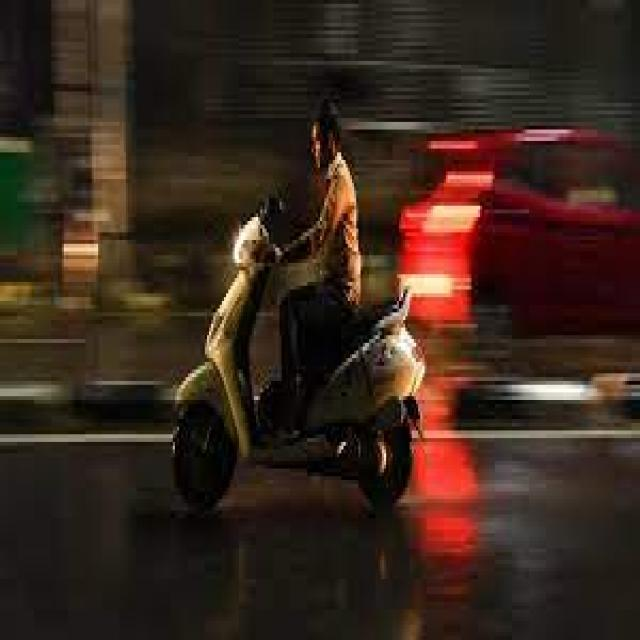Not Wearing Helmet: (246, 36, 368, 215)
